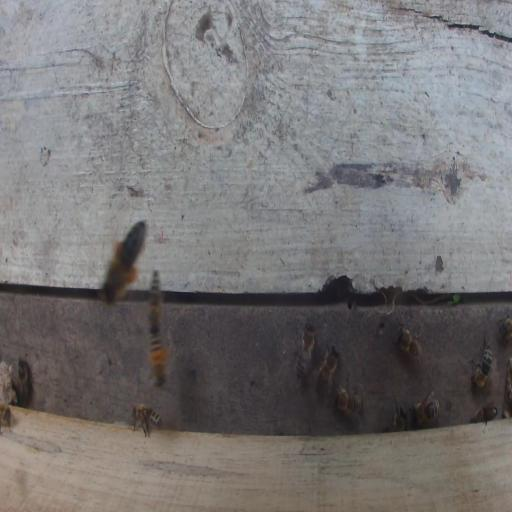bee: (103, 221, 145, 306), (315, 344, 341, 404), (334, 372, 363, 424), (467, 333, 492, 390), (148, 326, 170, 390), (295, 320, 316, 380), (394, 323, 423, 366), (131, 403, 162, 438), (147, 269, 162, 332), (412, 395, 441, 427), (17, 357, 32, 403), (470, 402, 499, 424), (498, 313, 512, 346), (392, 402, 407, 431), (0, 401, 12, 435)
